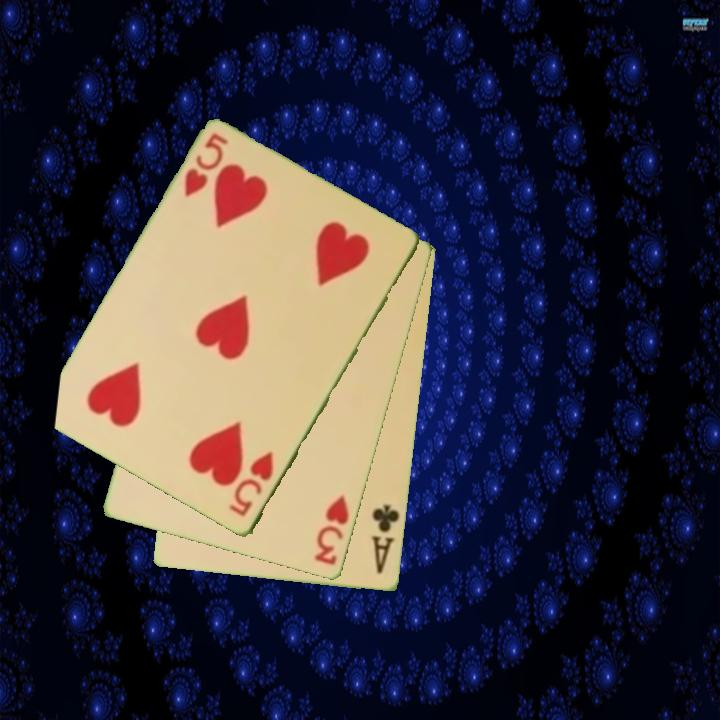3h: (311, 492, 352, 569)
5h: (225, 448, 277, 521), (181, 130, 232, 201)
Ac: (368, 501, 403, 577)
